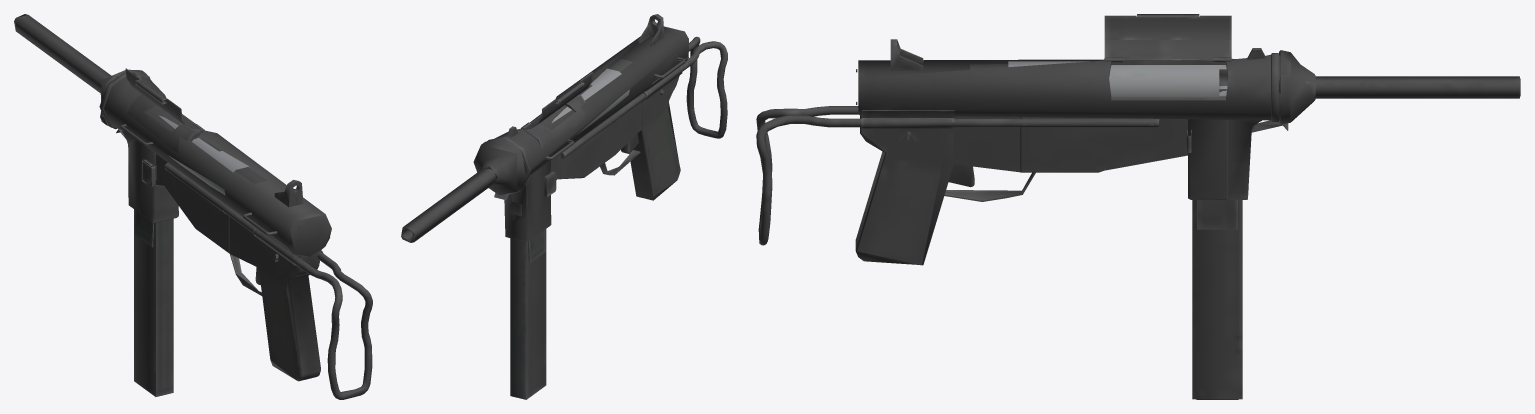
File: grease_lo.glb
3 renders of one model, left to right at view 1: azimuth 30°, elevation 25°; view 2: azimuth 150°, elevation 25°; view 3: azimuth 270°, elevation 25°, orthographic. The views are drawn at different scales.
Parts seen in each view (by area): view 1: Body, Magazine, Stock, EjectorLid, Bolt; view 2: Body, Magazine, Stock, Bolt, EjectorLid; view 3: Body, Magazine, EjectorLid, Stock, Bolt.
Part boxes in pixels (<box>): Body: <box>14,14,331,381</box>; Magazine: <box>134,209,173,396</box>; Stock: <box>164,163,372,399</box>; EjectorLid: <box>125,68,204,132</box>; Bolt: <box>159,115,249,195</box>; Body: <box>401,14,688,242</box>; Magazine: <box>510,229,546,399</box>; Stock: <box>561,36,727,158</box>; Bolt: <box>552,68,629,134</box>; EjectorLid: <box>521,72,592,129</box>; Body: <box>855,39,1520,265</box>; Magazine: <box>1192,89,1242,399</box>; EjectorLid: <box>1104,14,1232,60</box>; Stock: <box>756,106,1159,245</box>; Bolt: <box>1008,61,1228,97</box>.
Bounding box in the file's own units: 0.0635 × 0.3336 × 0.627.
Materials: 1 (1 with a texture image).
